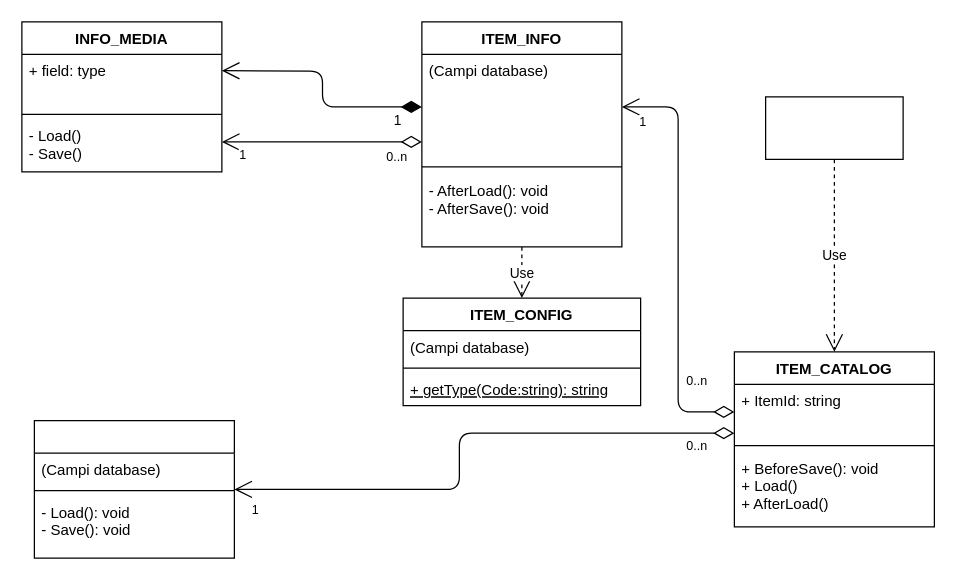
The diagram is 956 pixels wide and 584 high, and some of its shapes have lost their labels. The shapes that lost their labels are listed below. From the top down, each one's box as (x1, y1, x2, y2) in pixels, then its label:
(764, 96, 903, 159): CLIENT
(33, 419, 234, 558): ITEM_TAG
